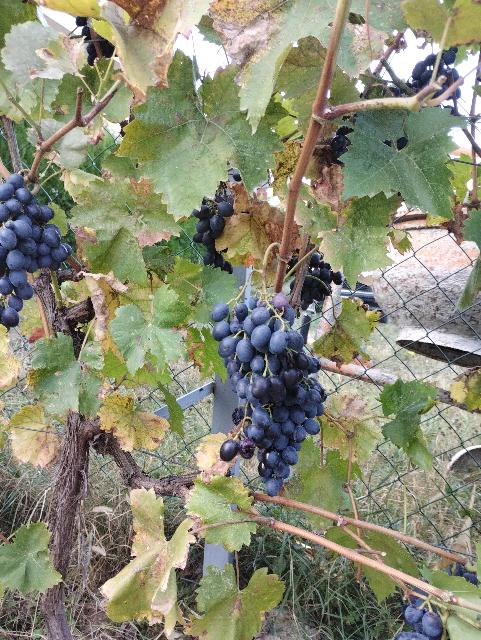grapes: (211, 291, 328, 496), (0, 174, 71, 329)
